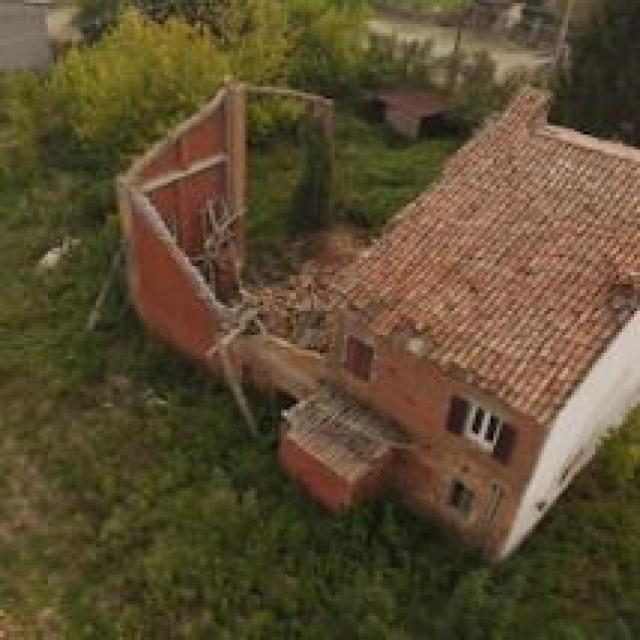collapsed_building: (114, 71, 529, 434)
